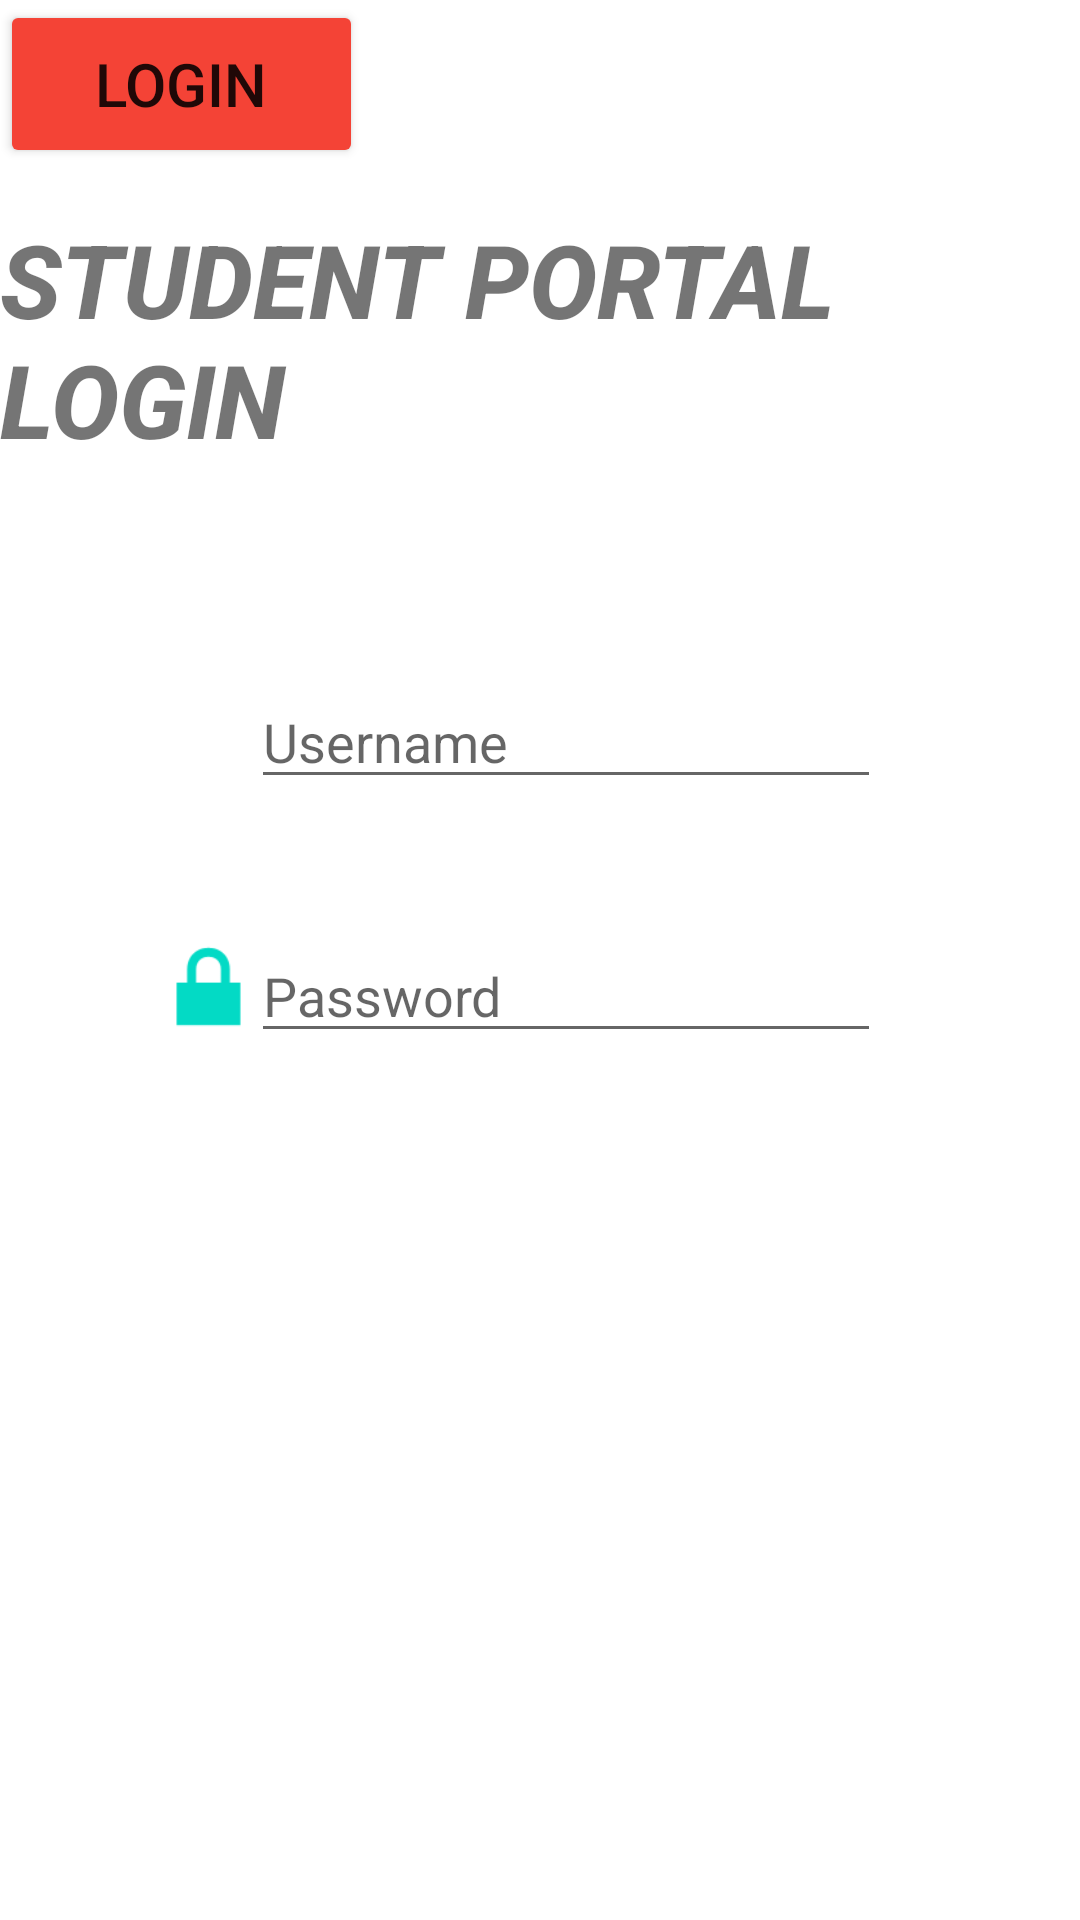

Screen size 1080x1920. Icon name, then its box in pixels as (x1, y1, x2, y2):
lock: (176, 947, 241, 1026)
